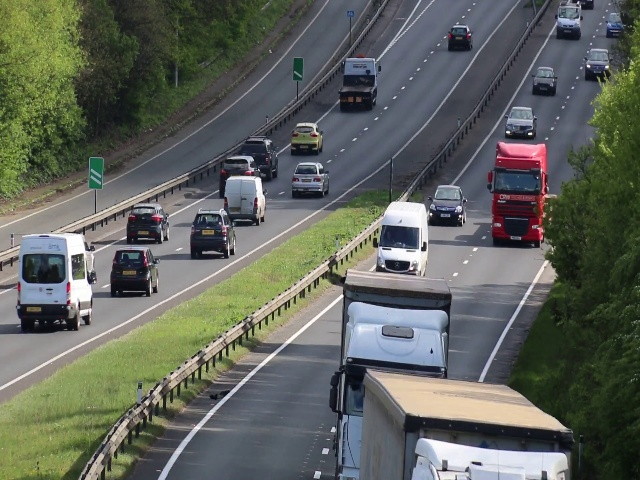car: (18, 232, 95, 330), (349, 335, 440, 384), (493, 163, 542, 250), (377, 215, 424, 276), (338, 377, 362, 480), (108, 247, 159, 295), (221, 176, 265, 225), (190, 211, 236, 256), (126, 200, 170, 243), (246, 133, 279, 179), (429, 184, 467, 223), (289, 162, 330, 197), (289, 117, 325, 153), (507, 106, 534, 139), (444, 23, 472, 51), (558, 4, 580, 39), (586, 48, 609, 81), (533, 66, 557, 95), (219, 157, 253, 176)
